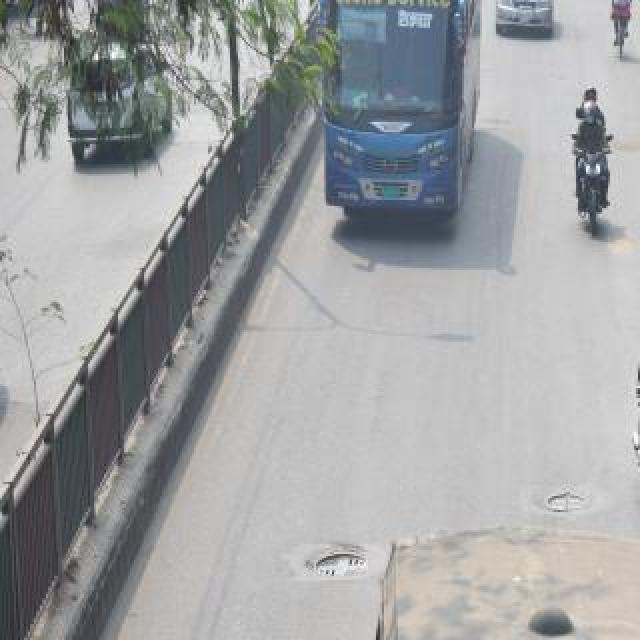bus: (315, 0, 483, 242), (356, 528, 640, 640)
car: (65, 36, 175, 166)
motorbike: (567, 117, 621, 239), (630, 346, 640, 518)
